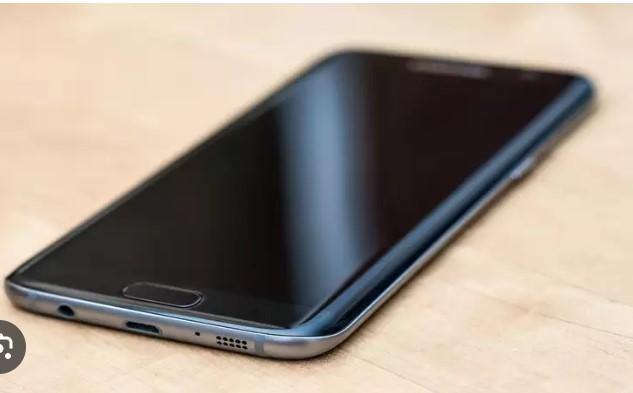Smart Phone: (5, 51, 599, 361)
